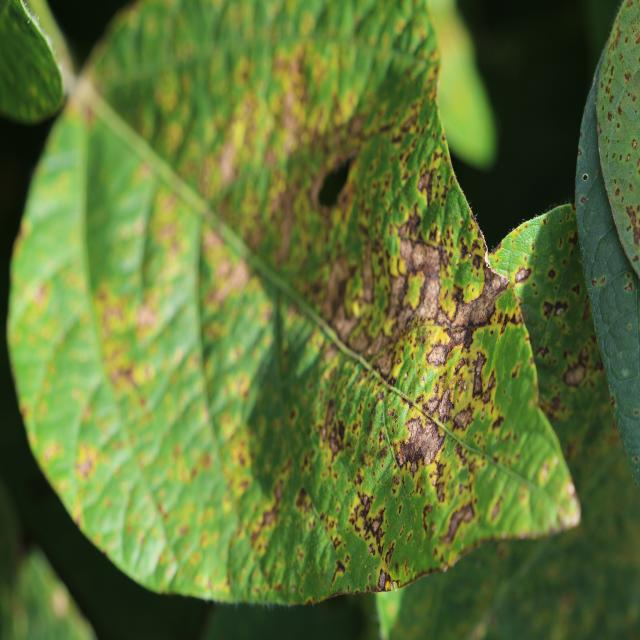Bacterial_Blight: (263, 41, 317, 133), (321, 244, 368, 342), (404, 230, 445, 336), (454, 267, 510, 334), (210, 119, 247, 192), (308, 154, 342, 215), (213, 256, 250, 305), (441, 499, 476, 543), (417, 422, 445, 467), (108, 355, 139, 391), (365, 504, 388, 549), (387, 273, 408, 321), (320, 398, 338, 454), (100, 300, 127, 337), (417, 167, 438, 205), (75, 446, 96, 479), (471, 354, 486, 398), (563, 362, 587, 388), (542, 298, 569, 320), (136, 303, 157, 330), (437, 390, 453, 424), (544, 392, 563, 418), (398, 440, 415, 469), (347, 113, 366, 137), (262, 505, 279, 527), (421, 504, 433, 535), (625, 204, 639, 229), (490, 496, 503, 521), (434, 480, 447, 504), (295, 486, 309, 508), (514, 267, 532, 284), (540, 460, 552, 482), (535, 344, 550, 361), (273, 479, 284, 502), (334, 559, 346, 580), (491, 414, 505, 431), (157, 500, 169, 519), (378, 569, 387, 590), (359, 451, 370, 467), (570, 283, 581, 297), (567, 481, 576, 496), (392, 474, 400, 490), (624, 281, 633, 292), (547, 269, 556, 279), (624, 71, 632, 82), (617, 104, 623, 116), (607, 111, 613, 122), (579, 195, 586, 204), (615, 187, 621, 197), (600, 276, 606, 285), (591, 278, 597, 287), (626, 153, 631, 162), (636, 139, 640, 149), (403, 372, 408, 380)
Soybean: (8, 0, 580, 604)
